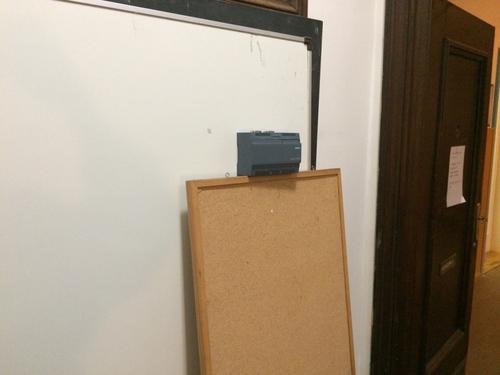iot2000: (235, 128, 303, 176)
